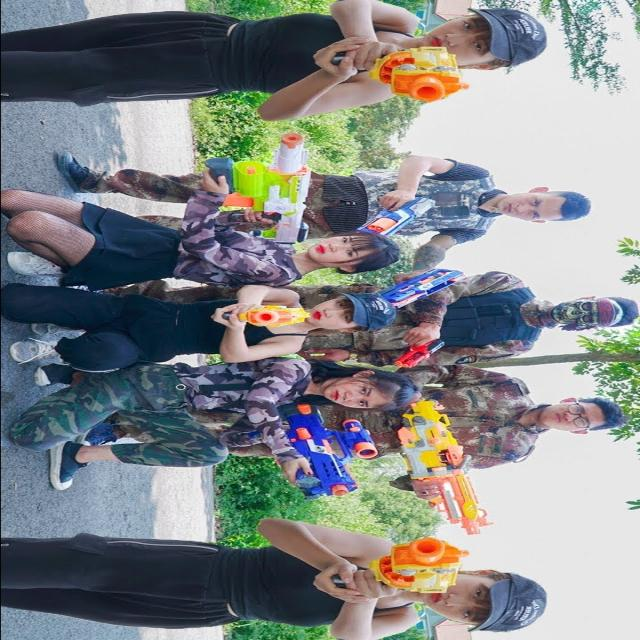Nerf gun: (381, 392, 495, 536), (196, 126, 327, 245), (250, 393, 386, 503), (315, 534, 480, 598), (320, 39, 476, 103), (353, 184, 435, 242), (368, 262, 468, 308), (229, 298, 319, 329), (387, 335, 450, 371)
